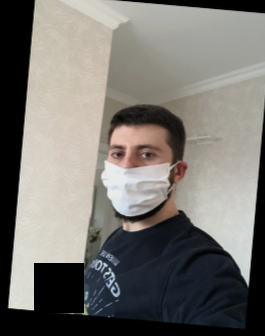with_mask: (100, 133, 170, 224)
